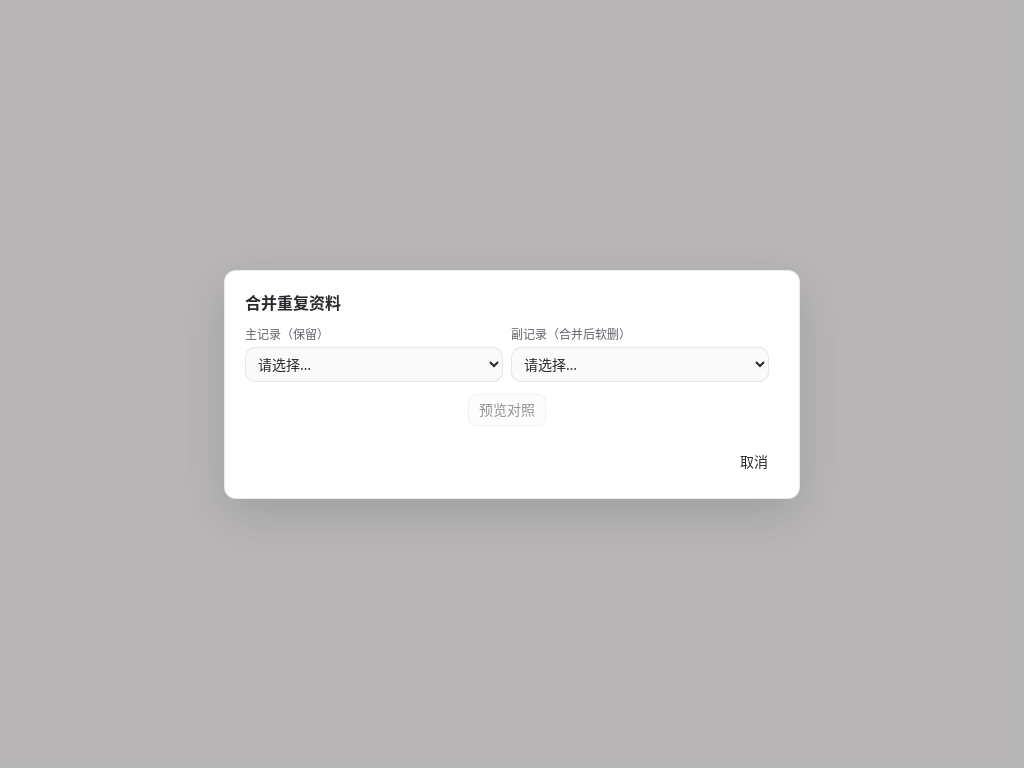
Test: F082 重复资料合并 › F082: 已合并对再请求 409 merged_already → 诚实报错
This screenshot has width=1024, height=768.
Select "主：阅读器指南" in the dropdown named "选择主记录". click: (374, 364)
box: [245,346,503,382]
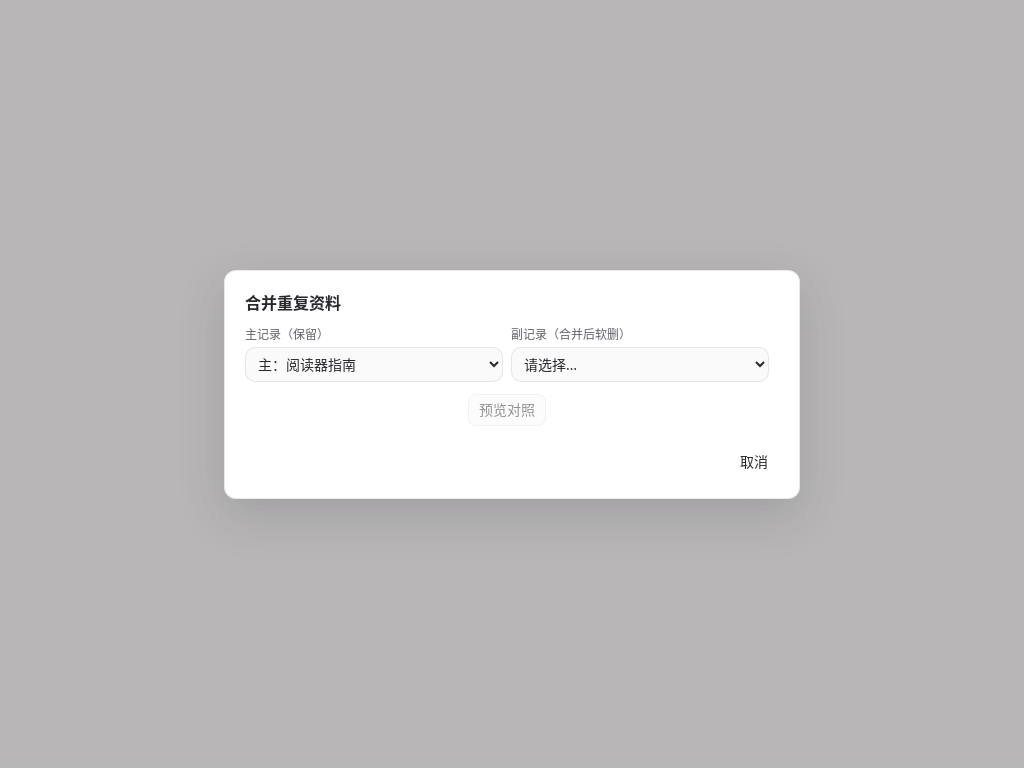
Select "副：阅读器指南（重复）" in the dropdown named "选择副记录". click: (640, 364)
box: [511,346,769,382]
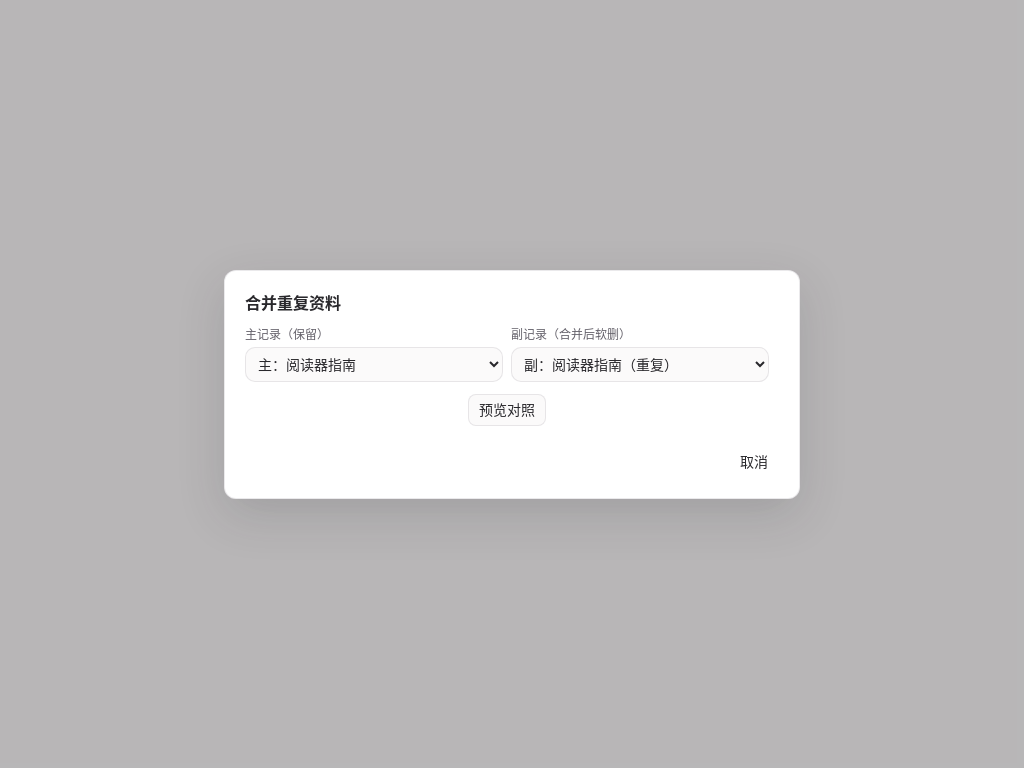
Click the button "预览对照". click: (507, 410)
box: [468,394,546,426]
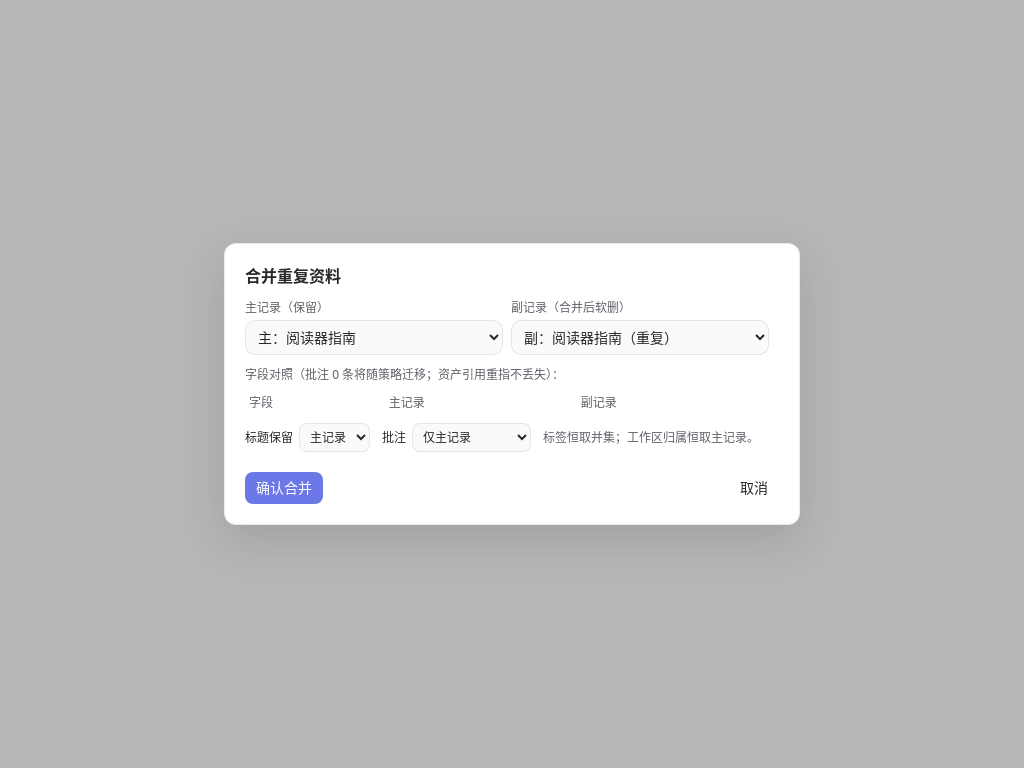
Expected: the button "确认合并" is shown
Click the button "确认合并". click: (284, 488)
box: [245,472,323,504]
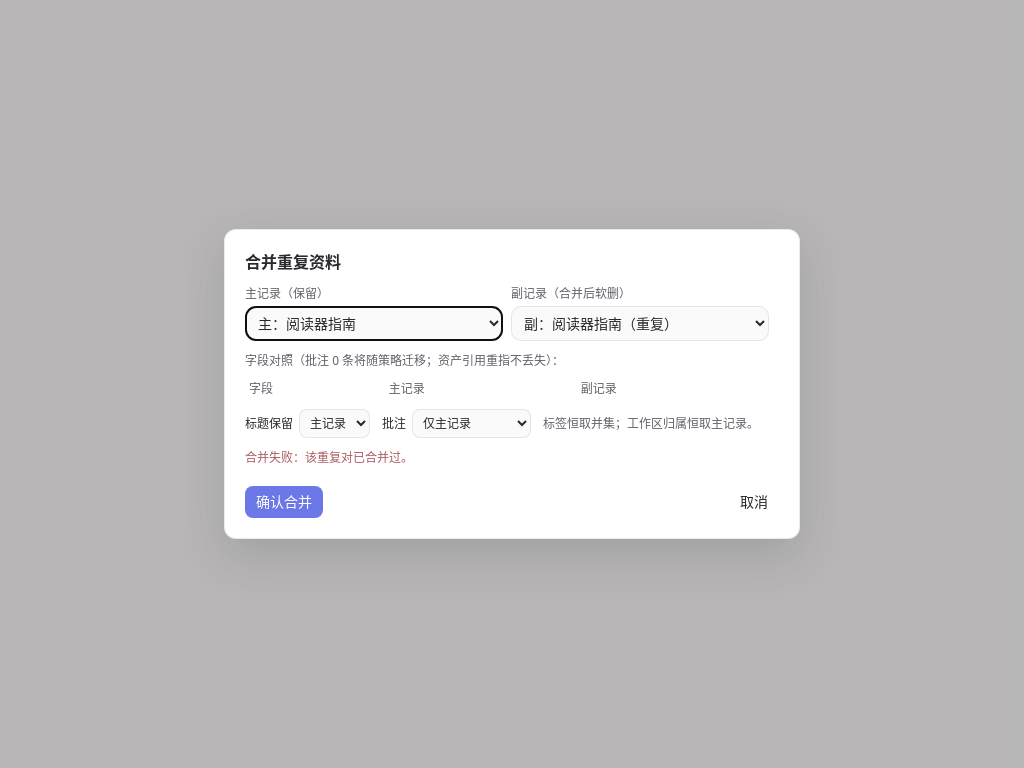
Expected: the text "合并失败：该重复对已合并过。" is shown, [245,449,413,466]
